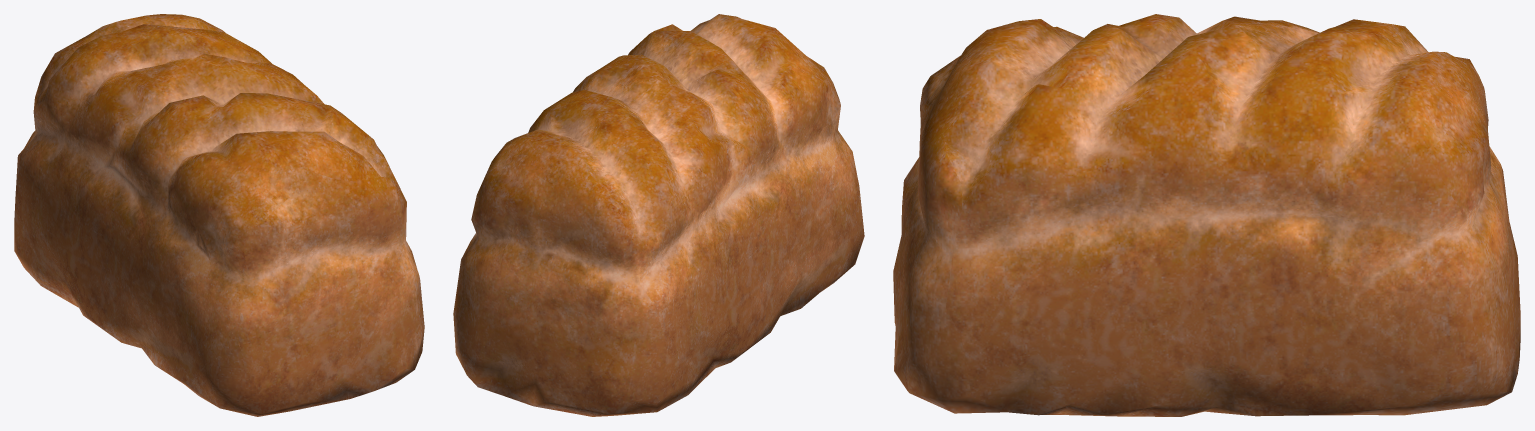
Rendered from Bread_11.obj.
3 views of the same model, side by side, from view 1: azimuth 30°, elevation 25°; view 2: azimuth 150°, elevation 25°; view 3: azimuth 270°, elevation 25° (orthographic). The views are drawn at different scales.
Visible parts, largest first — view 1: bread5_a_mesh; view 2: bread5_a_mesh; view 3: bread5_a_mesh.
Boxes of the visible parts, <box> form: bread5_a_mesh: <box>14,14,424,416</box>; bread5_a_mesh: <box>453,14,864,416</box>; bread5_a_mesh: <box>893,14,1520,416</box>.
Bounding box in the file's own units: 0.139 × 0.1547 × 0.2647.
